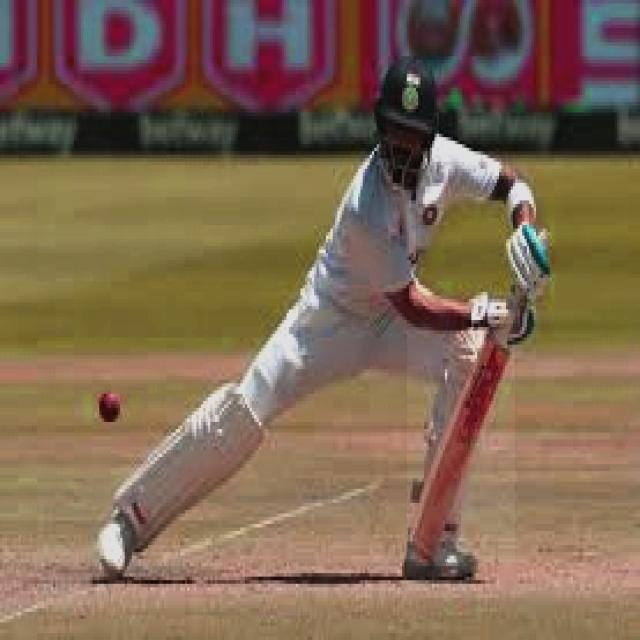bat: (402, 333, 508, 564)
toe: (406, 540, 436, 560)
